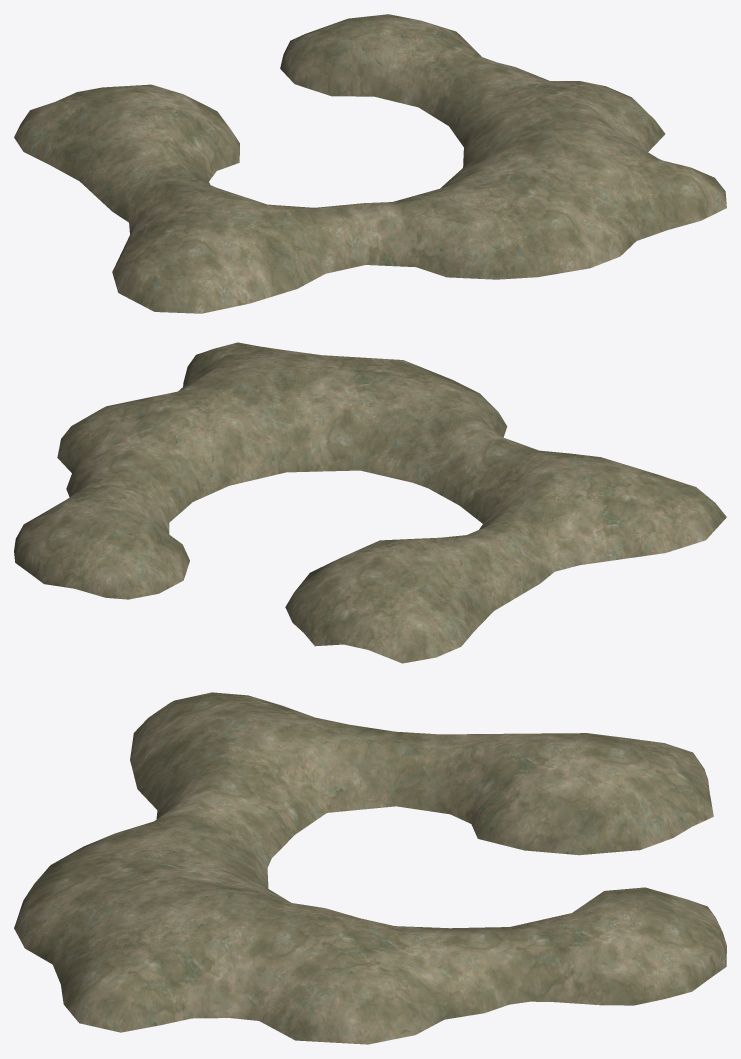
The model's file is OVERHILL_A_01_FLOOD_CAVE_ROOF.fbx.
The picture shows the model from 3 angles, top to bottom: view 1: azimuth 30°, elevation 25°; view 2: azimuth 150°, elevation 25°; view 3: azimuth 270°, elevation 25°; orthographic projection. The views are drawn at different scales.
Parts seen in each view (by area): view 1: OVERHILL_A_01_FLOOD_CAVE_ROOF; view 2: OVERHILL_A_01_FLOOD_CAVE_ROOF; view 3: OVERHILL_A_01_FLOOD_CAVE_ROOF.
Boxes of the visible parts, box(x1,y1,x2,y2) form: OVERHILL_A_01_FLOOD_CAVE_ROOF: box(14, 14, 726, 313); OVERHILL_A_01_FLOOD_CAVE_ROOF: box(14, 342, 726, 663); OVERHILL_A_01_FLOOD_CAVE_ROOF: box(14, 692, 726, 1044).
Bounding box in the file's own units: 202387 × 19822 × 181767.
1 material, 1 textured.
